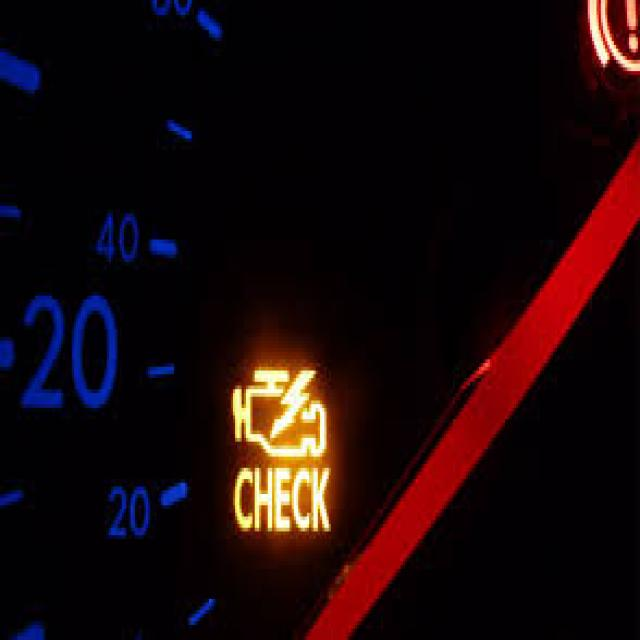kontrolka: (224, 355, 338, 542)
